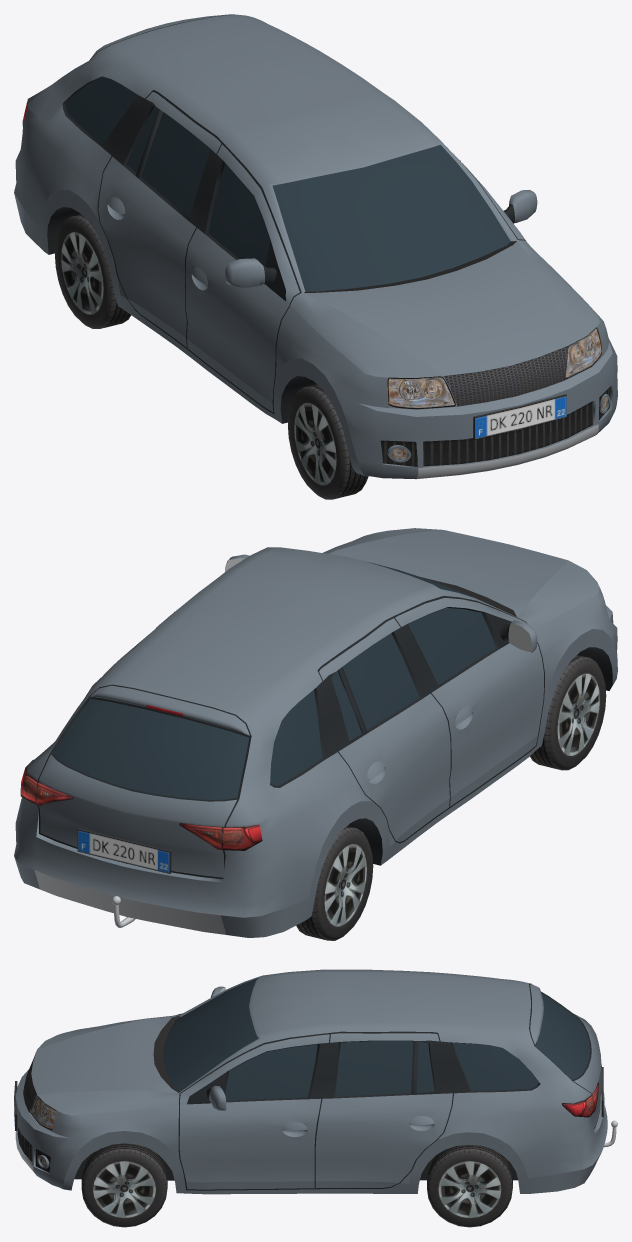
The model's file is sedan.glb.
The picture shows the model from 3 angles, top to bottom: view 1: azimuth 30°, elevation 25°; view 2: azimuth 150°, elevation 25°; view 3: azimuth 270°, elevation 25°; orthographic projection. The views are drawn at different scales.
Visible parts, largest first — view 1: paint-Body-body, glass-FrontGlass-body, glass-Glass-body, trim-AirIntake-body, rubber-Tires-(False, False), rubber-Tires-(False, True), rubber-BlackPlastic-body, paint-LowBody-body, paint-LowBodyArch-body, headlamp-FrontLights-body, trim-LicensePlate-body, rubber-Lines-body (+3 smaller); view 2: paint-Body-body, glass-Glass-body, rubber-BlackPlastic-body, rubber-Tires-(False, False), rubber-Tires-(False, True), paint-LowBody-body, alloy-LowBodyMetallic-body, paint-LowBodyArch-body, taillamp-RearLights-body, rubber-Lines-body, trim-LicensePlate-body, rubber-WheelArch-body (+1 smaller); view 3: paint-Body-body, glass-Glass-body, glass-FrontGlass-body, rubber-Tires-(True, False), rubber-Tires-(True, True), rubber-BlackPlastic-body, paint-LowBody-body, paint-LowBodyArch-body, rubber-Lines-body, trim-AirIntake-body, trim-AirOut-body, taillamp-RearLights-body (+2 smaller).
Part boxes in pixels (x1,y1,x2,y2): paint-Body-body: [14, 14, 617, 467]; glass-FrontGlass-body: [272, 144, 510, 291]; glass-Glass-body: [65, 77, 270, 266]; trim-AirIntake-body: [380, 346, 610, 466]; rubber-Tires-(False, False): [288, 384, 368, 499]; rubber-Tires-(False, True): [55, 214, 131, 328]; rubber-BlackPlastic-body: [62, 76, 514, 301]; paint-LowBody-body: [14, 193, 617, 479]; paint-LowBodyArch-body: [40, 189, 356, 459]; headlamp-FrontLights-body: [387, 327, 601, 409]; trim-LicensePlate-body: [473, 394, 566, 439]; rubber-Lines-body: [90, 14, 525, 414]; paint-Body-body: [14, 528, 617, 917]; glass-Glass-body: [53, 608, 495, 799]; rubber-BlackPlastic-body: [50, 607, 511, 801]; rubber-Tires-(False, False): [530, 655, 606, 770]; rubber-Tires-(False, True): [296, 826, 373, 940]; paint-LowBody-body: [14, 671, 617, 937]; alloy-LowBodyMetallic-body: [34, 870, 226, 934]; paint-LowBodyArch-body: [308, 629, 617, 897]; taillamp-RearLights-body: [20, 704, 262, 850]; rubber-Lines-body: [37, 596, 544, 878]; trim-LicensePlate-body: [77, 828, 171, 873]; rubber-WheelArch-body: [347, 647, 612, 865]; paint-Body-body: [15, 969, 607, 1183]; glass-Glass-body: [225, 993, 589, 1100]; glass-FrontGlass-body: [163, 978, 258, 1091]; rubber-Tires-(True, False): [81, 1143, 167, 1227]; rubber-Tires-(True, True): [427, 1144, 512, 1227]; rubber-BlackPlastic-body: [187, 991, 591, 1104]; paint-LowBody-body: [33, 1158, 597, 1194]; paint-LowBodyArch-body: [64, 1131, 528, 1184]; rubber-Lines-body: [178, 983, 600, 1190]; trim-AirIntake-body: [17, 1053, 50, 1172]; trim-AirOut-body: [153, 1015, 180, 1092]; taillamp-RearLights-body: [562, 1082, 599, 1117].
Size of the model in its own units: 2 by 1.55 by 4.57.
21 materials, 7 textured.
